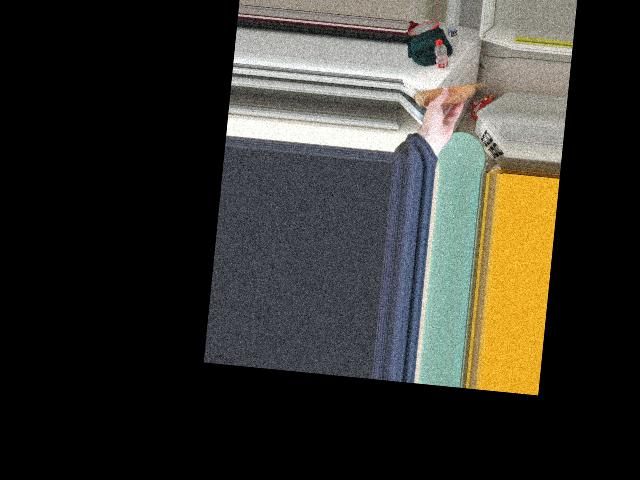sweet_potato: (417, 73, 483, 114)
